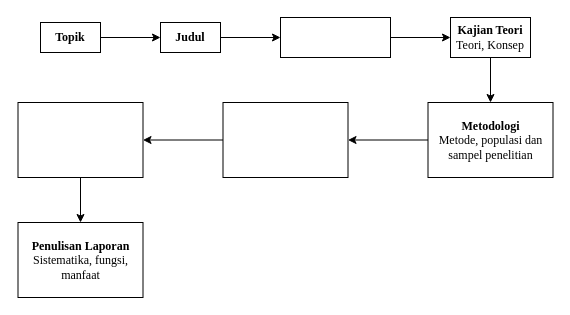
This 570x315 diagram has some shape labels left out. The box of each missing label's shape, as (x1, y1, x2, y2) in pixels:
Merumuskan Masalah: (280, 16, 390, 58)
Pengolahan Data Organisasi, Penyajian, Analisis: (17, 102, 143, 178)
Pengumpulan Data Studi Pustaka dan Kuesioner: (222, 102, 348, 178)
